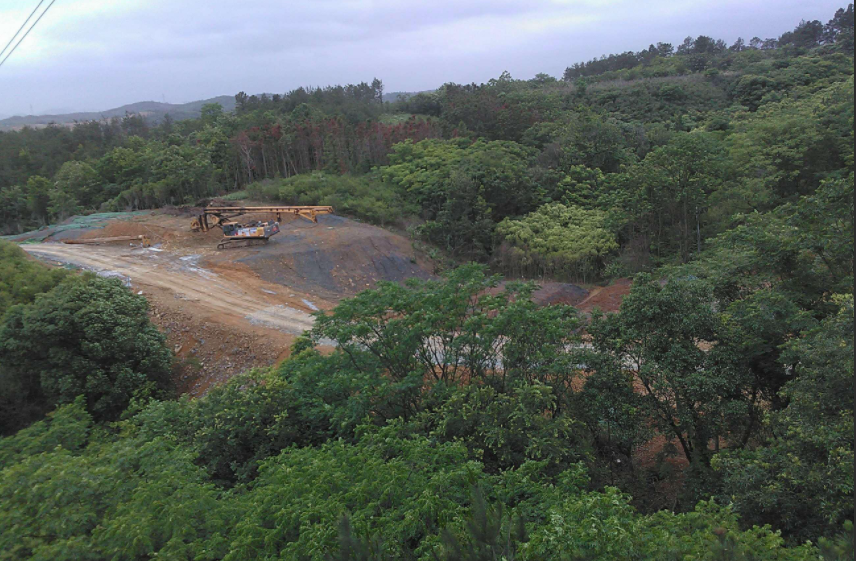绿膜: (69, 209, 161, 223), (17, 229, 63, 244), (38, 222, 107, 230), (61, 230, 87, 239), (0, 233, 19, 240)
